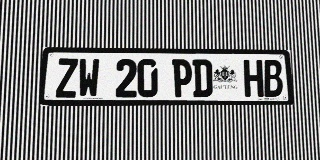0: (137, 59, 158, 97)
2: (116, 59, 137, 97)
B: (263, 60, 283, 97)
D: (192, 59, 213, 97)
H: (243, 60, 264, 97)
P: (172, 59, 192, 97)
W: (78, 58, 100, 98)
Z: (56, 58, 78, 98)
